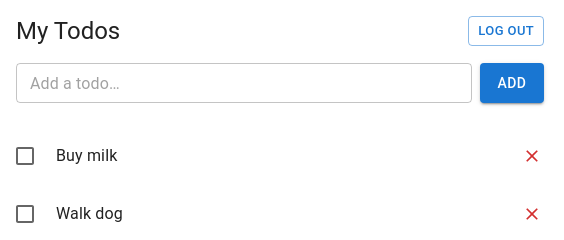
TodoList › deletes a todo
The width and height of the screenshot is (564, 240).
Expected: the text "Buy milk" is shown, x1=56 y1=146 x2=118 y2=165
Click the button without text in the row of "Buy milk" at coordinates (532, 156), box x1=517 y1=141 x2=547 y2=171
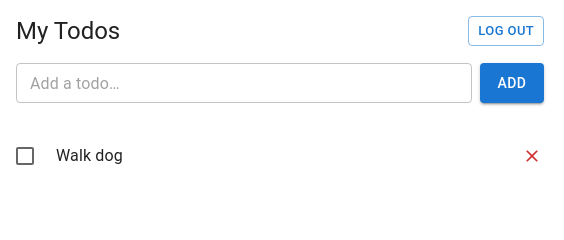
Expected: the text "Buy milk" is gone
